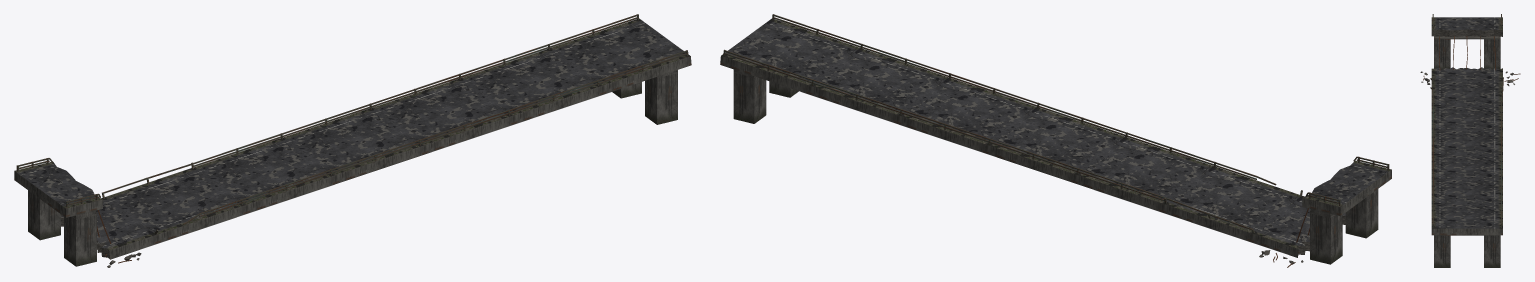
Rendered from Overpass_Cross_Broken.fbx.
The picture shows the model from 3 angles, left to right: view 1: azimuth 30°, elevation 25°; view 2: azimuth 150°, elevation 25°; view 3: azimuth 270°, elevation 25°; orthographic projection. The views are drawn at different scales.
Visible parts, largest first — view 1: Overpass_Cross_Broken; view 2: Overpass_Cross_Broken; view 3: Overpass_Cross_Broken.
Boxes of the visible parts, box(x1,y1,x2,y2) form: Overpass_Cross_Broken: box(14, 14, 691, 267); Overpass_Cross_Broken: box(720, 14, 1391, 267); Overpass_Cross_Broken: box(1420, 14, 1520, 267).
Size of the model in its own units: 4200 by 443 by 840.
